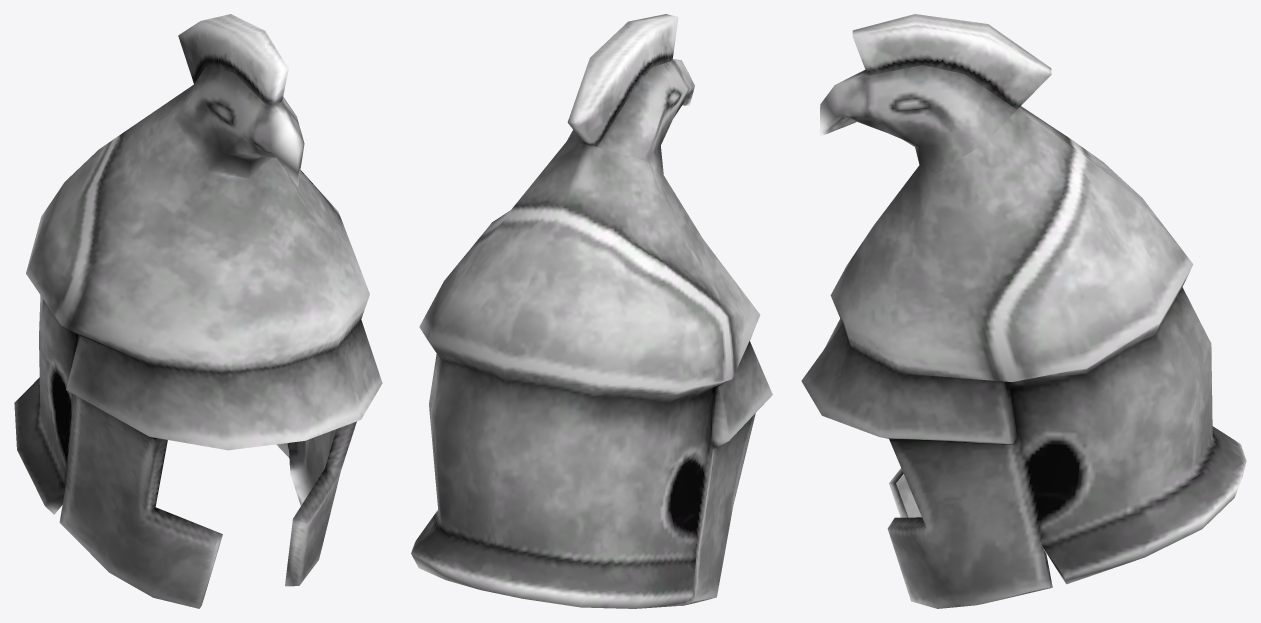
The model's file is rider-helmet-slice-heavycavalry.glb.
The picture shows the model from 3 angles, left to right: view 1: azimuth 30°, elevation 25°; view 2: azimuth 150°, elevation 25°; view 3: azimuth 270°, elevation 25°; orthographic projection. The views are drawn at different scales.
Bounding box in the file's own units: 0.2705 × 0.5153 × 0.3705.
1 material, 1 textured.
